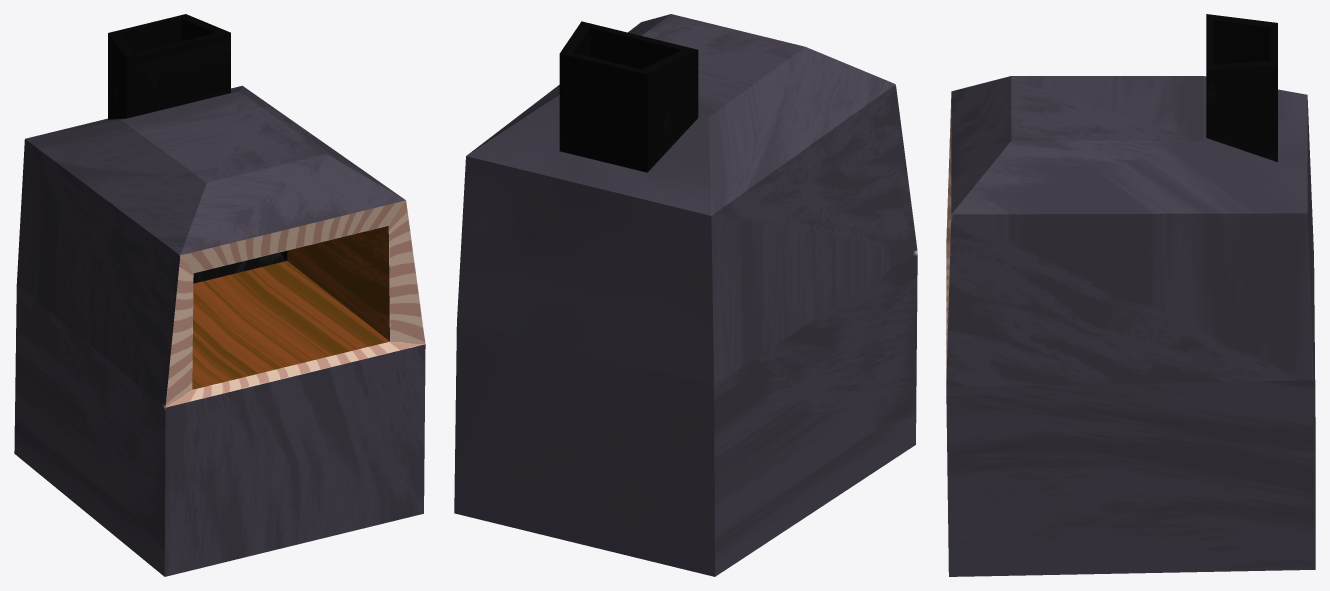
File: oven.fbx
3 renders of one model, left to right at view 1: azimuth 30°, elevation 25°; view 2: azimuth 150°, elevation 25°; view 3: azimuth 270°, elevation 25°, orthographic. The views are drawn at different scales.
Parts seen in each view (by area): view 1: oven; view 2: oven; view 3: oven.
Boxes of the visible parts, left/top/right/bottom form: oven: left=14, top=14, right=425, bottom=576; oven: left=454, top=14, right=917, bottom=576; oven: left=946, top=14, right=1315, bottom=576.
Size of the model in its own units: 1.06 by 1.63 by 1.17.
